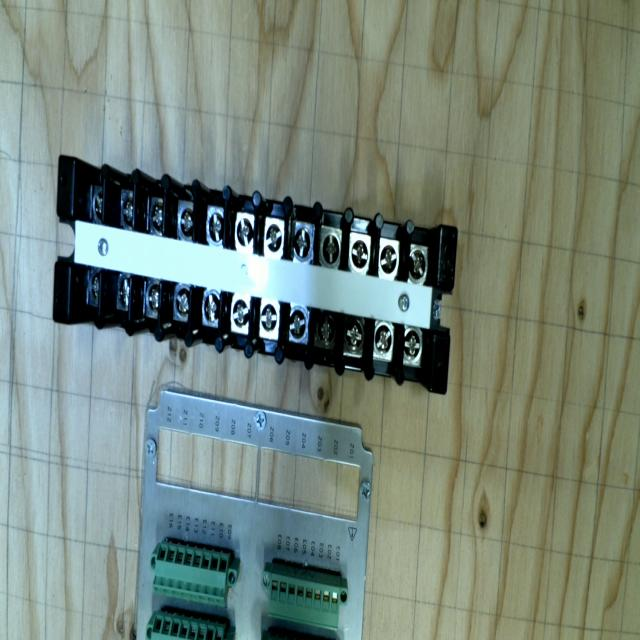Phillips_Block: (30, 155, 476, 393)
Terminal_2: (149, 543, 234, 607)
